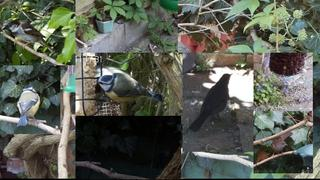blackbird: (188, 73, 234, 132)
blue tit: (96, 73, 162, 102), (16, 85, 40, 126)
dunnock: (271, 131, 293, 159)
sparrow: (1, 20, 56, 54)
